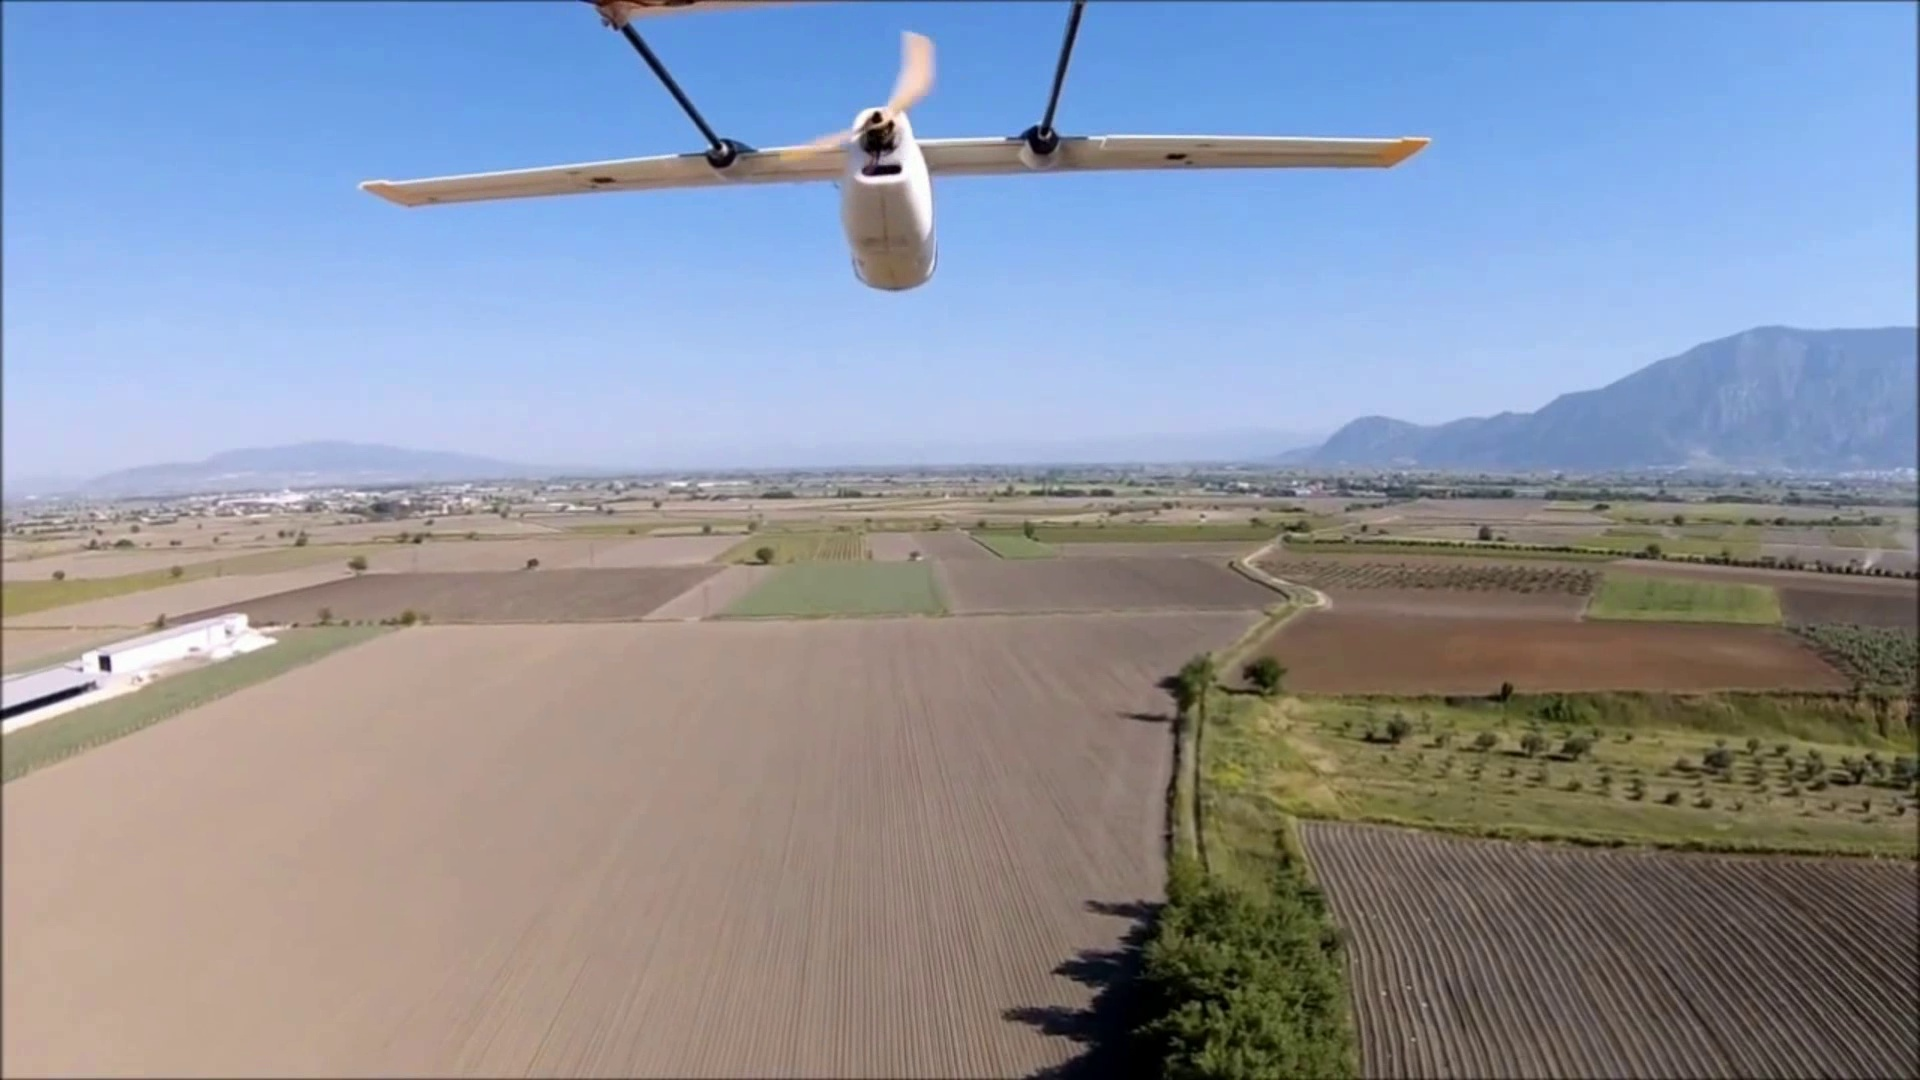airplane: (357, 5, 1427, 287)
